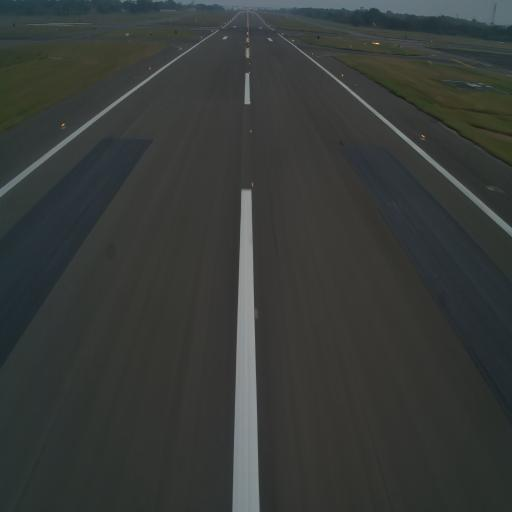on: (253, 303, 262, 321), (420, 131, 428, 141), (250, 180, 257, 190), (248, 128, 255, 138), (60, 120, 67, 130), (148, 64, 152, 72), (248, 99, 252, 105), (341, 72, 344, 78), (248, 70, 251, 76)
